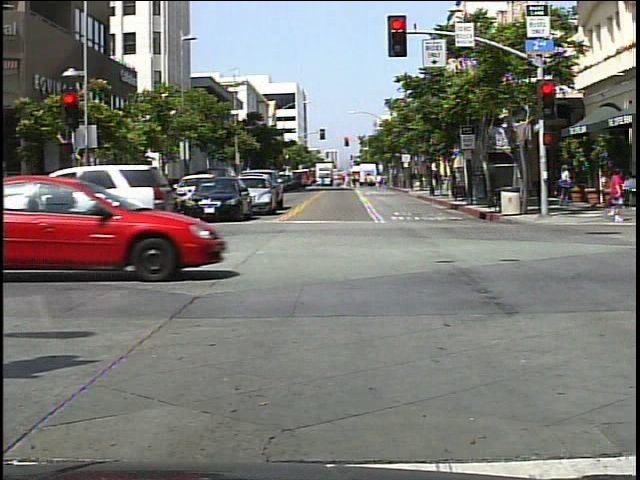person: (67, 171, 98, 235), (604, 167, 632, 228), (555, 162, 578, 213)
